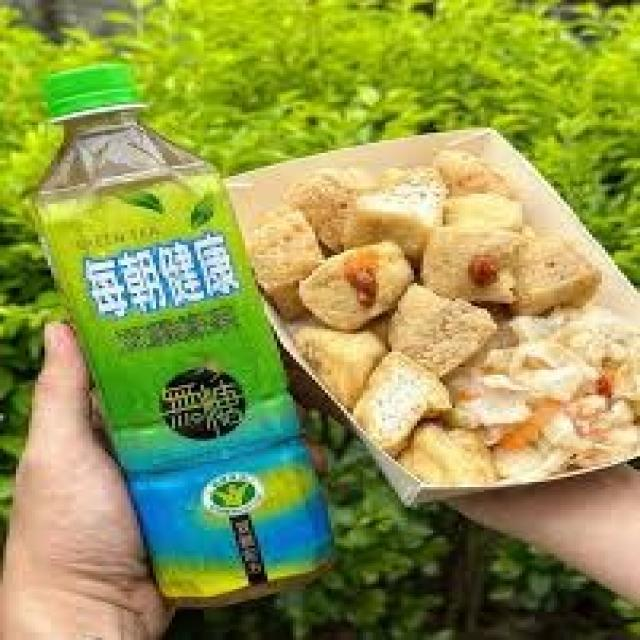MeiChou_GreenTea: (11, 40, 376, 615)
